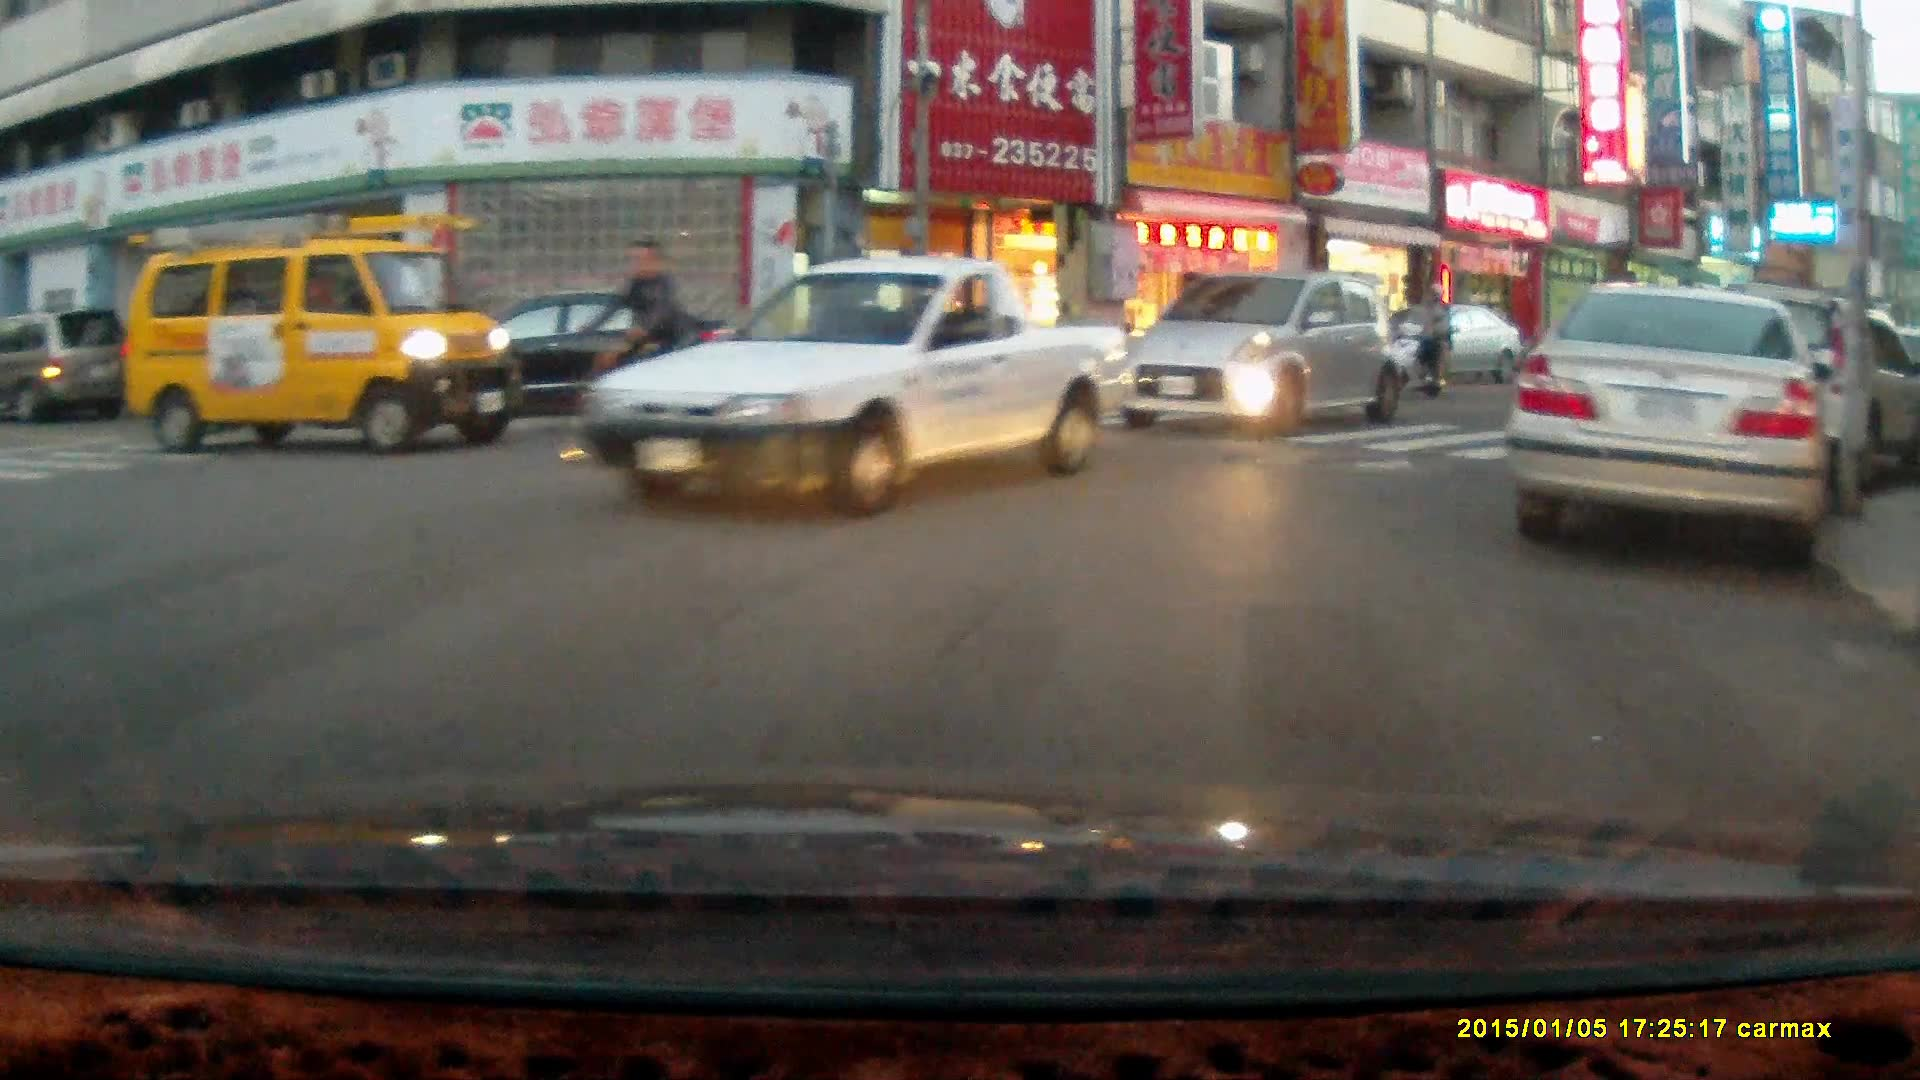rider: (547, 238, 717, 464), (1386, 277, 1453, 400)
vehicle: (583, 251, 1131, 517), (1507, 279, 1842, 581), (120, 211, 516, 458), (1652, 292, 1920, 500), (1112, 269, 1404, 436), (431, 288, 737, 416), (1, 306, 134, 423), (1393, 304, 1522, 382)
